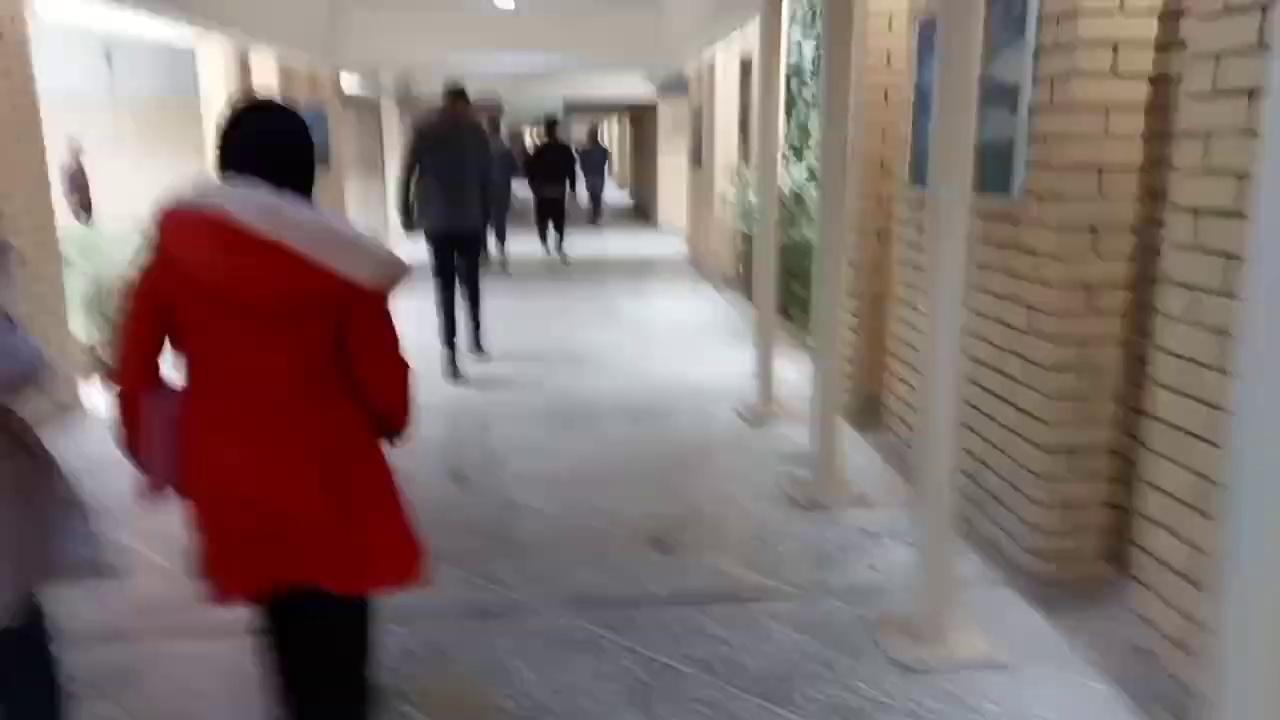person: (115, 97, 431, 718), (399, 80, 495, 383), (524, 117, 577, 266), (480, 114, 519, 273), (573, 125, 610, 225)
tree: (775, 0, 823, 332), (723, 157, 757, 301)
